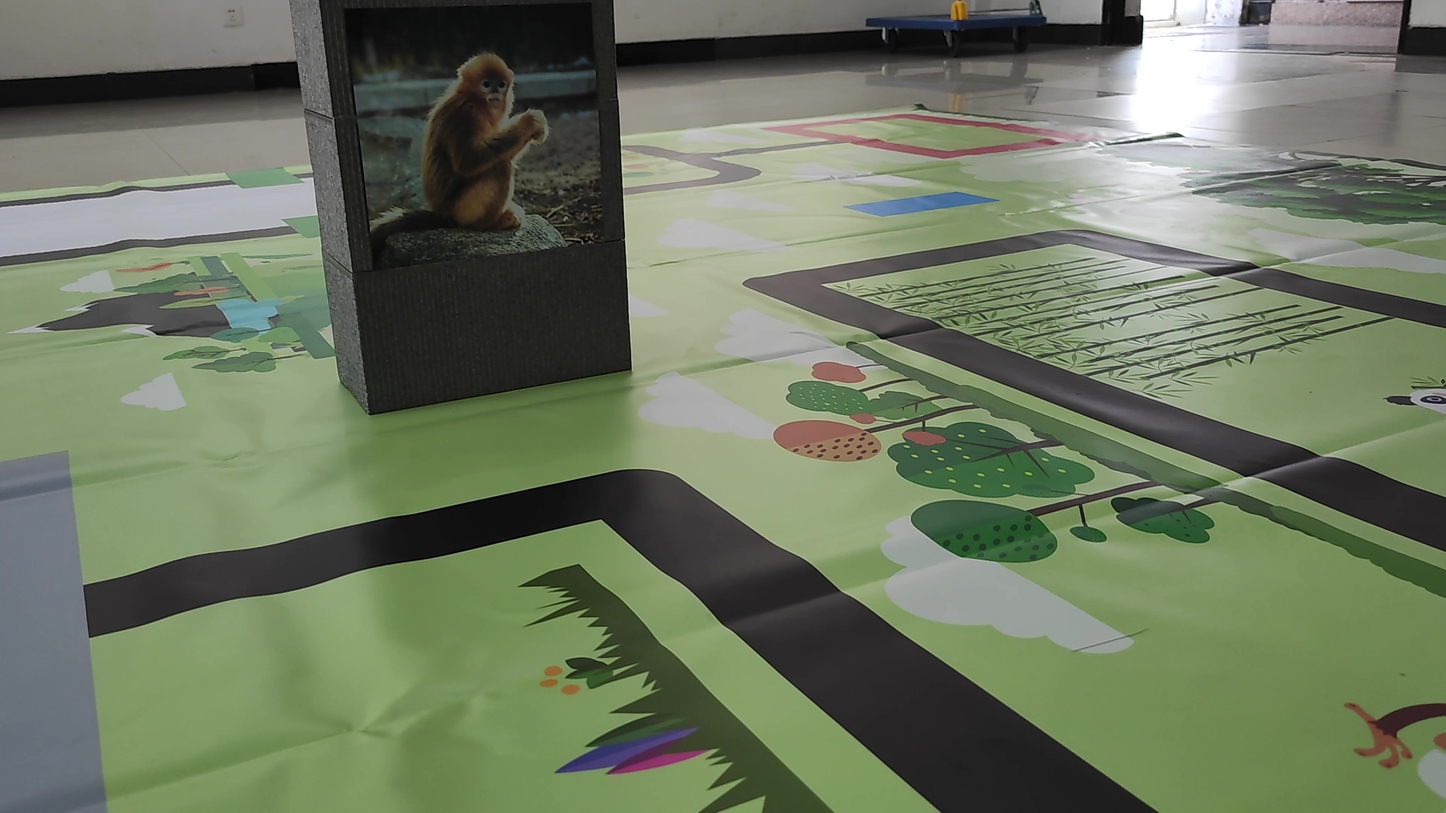monkey: (358, 31, 573, 280)
